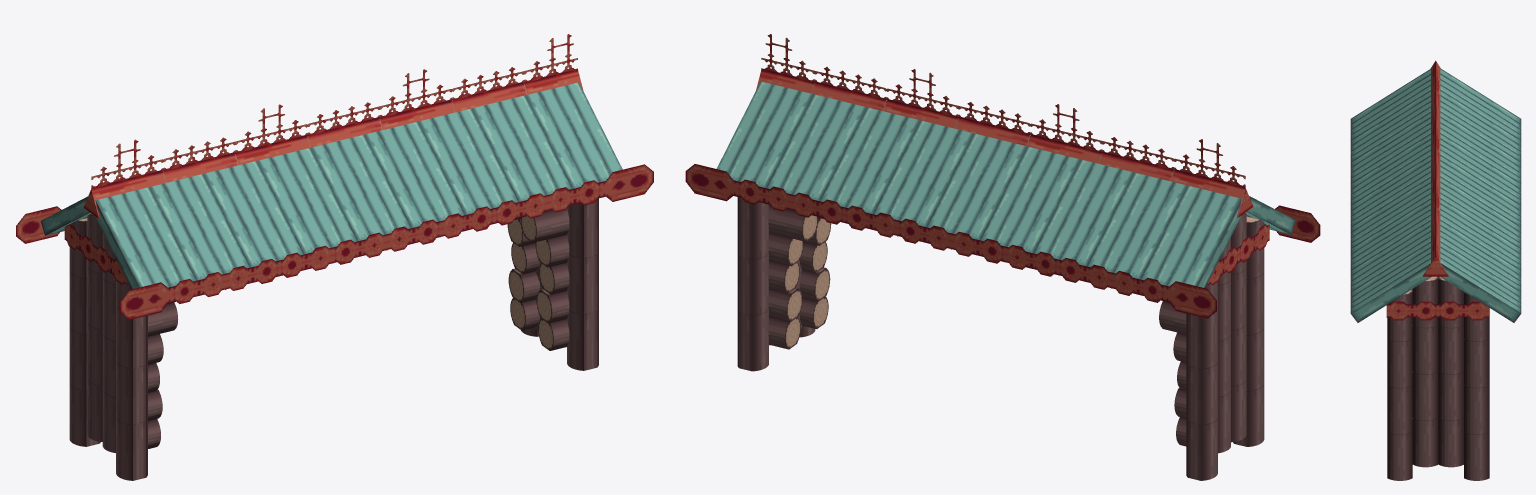
Rendered from wooden_gate 1.fbx.
3 views of the same model, side by side, from view 1: azimuth 30°, elevation 25°; view 2: azimuth 150°, elevation 25°; view 3: azimuth 270°, elevation 25° (orthographic). The views are drawn at different scales.
Visible parts, largest first — view 1: wooden_gate; view 2: wooden_gate; view 3: wooden_gate.
Part boxes in pixels (left/top/right/bottom): wooden_gate: left=16, top=34, right=653, bottom=480; wooden_gate: left=685, top=34, right=1320, bottom=480; wooden_gate: left=1350, top=60, right=1521, bottom=480.
Bounding box in the file's own units: 1000 × 586 × 335.
